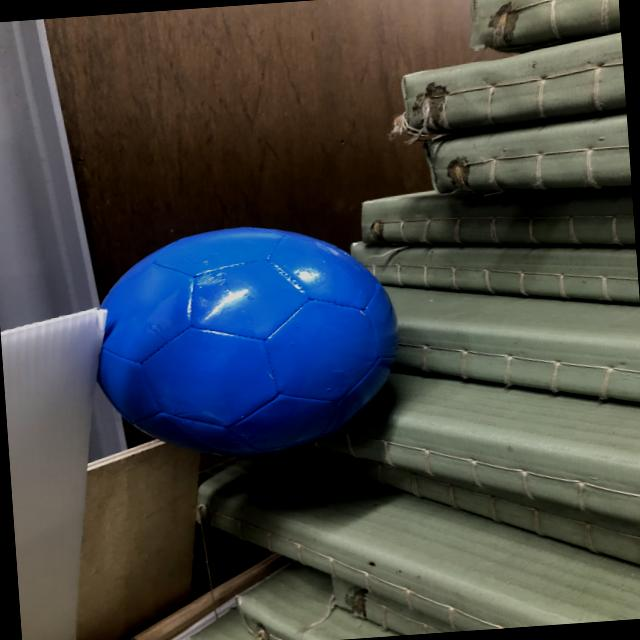blue_ball: (88, 219, 403, 465)
